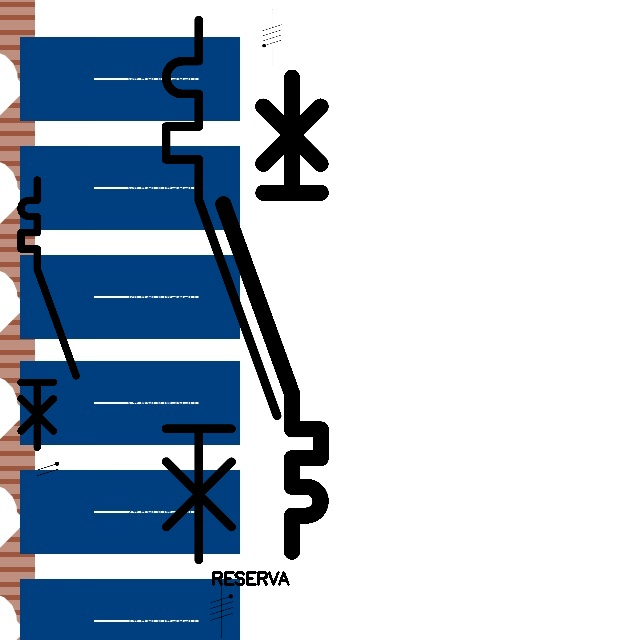interruptor_termomagnetico: (152, 6, 291, 574), (211, 65, 333, 564), (14, 173, 83, 454)
